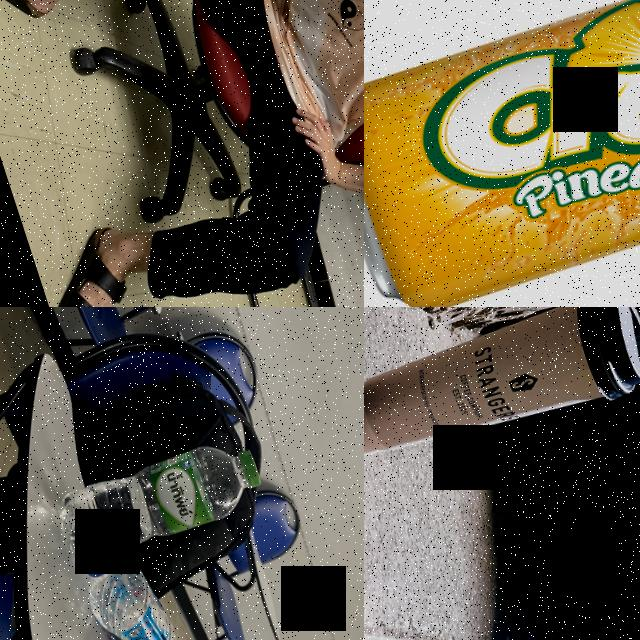bottle: (49, 434, 270, 572), (69, 521, 220, 640)
can: (364, 0, 640, 307)
cup: (364, 307, 640, 484)
